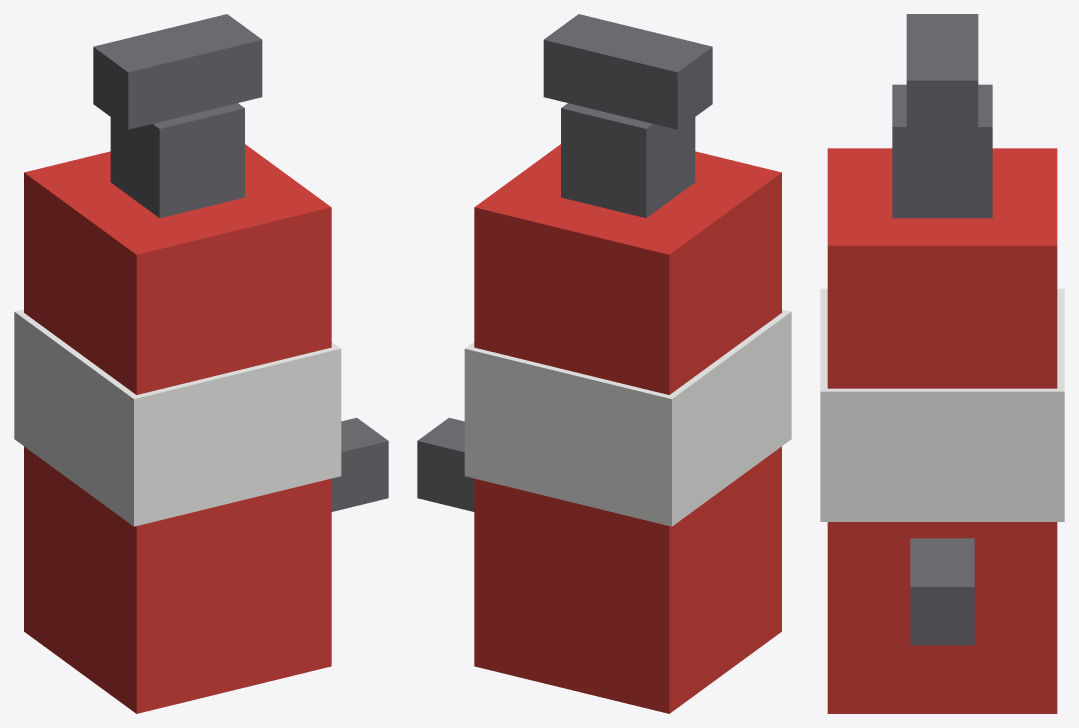
Rendered from placeholder_extinguisher_water.glb.
3 views of the same model, side by side, from view 1: azimuth 30°, elevation 25°; view 2: azimuth 150°, elevation 25°; view 3: azimuth 270°, elevation 25° (orthographic). The views are drawn at different scales.
Parts seen in each view (by area): view 1: ExtinguisherWater; view 2: ExtinguisherWater; view 3: ExtinguisherWater.
Part boxes in pixels (bbox=[...]): ExtinguisherWater: bbox=[14, 14, 388, 713]; ExtinguisherWater: bbox=[417, 14, 791, 713]; ExtinguisherWater: bbox=[820, 14, 1064, 713].
Bounding box in the file's own units: 0.49 × 0.95 × 0.34.
